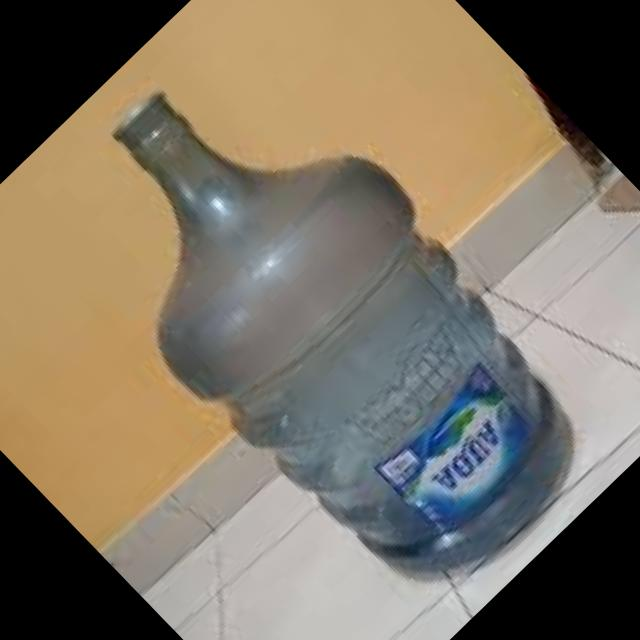Galon: (16, 5, 632, 628)
